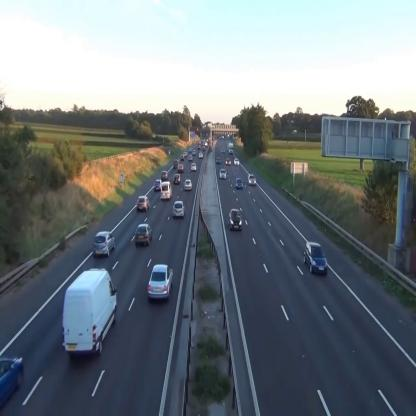car: (147, 264, 173, 300), (303, 241, 328, 274), (93, 231, 115, 257), (134, 224, 152, 245), (228, 209, 242, 231), (135, 195, 150, 212), (172, 201, 185, 217), (248, 174, 256, 186), (154, 179, 162, 190), (236, 178, 244, 189), (172, 174, 180, 184), (184, 180, 192, 190), (219, 169, 227, 179), (161, 170, 168, 181), (190, 164, 197, 171), (225, 158, 231, 166), (234, 158, 240, 166), (178, 164, 184, 172)
lorry: (62, 268, 119, 358), (160, 181, 172, 201)
